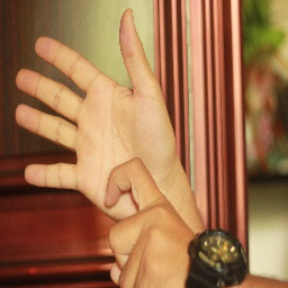R: (12, 6, 195, 288)
